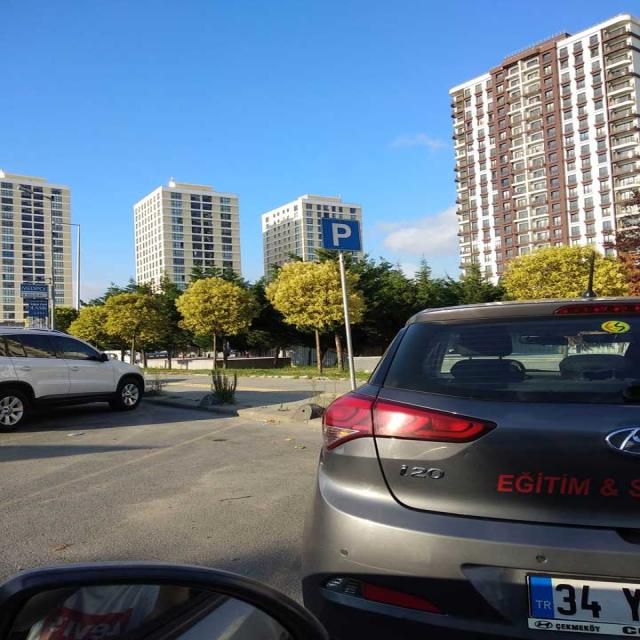park: (321, 218, 363, 252)
